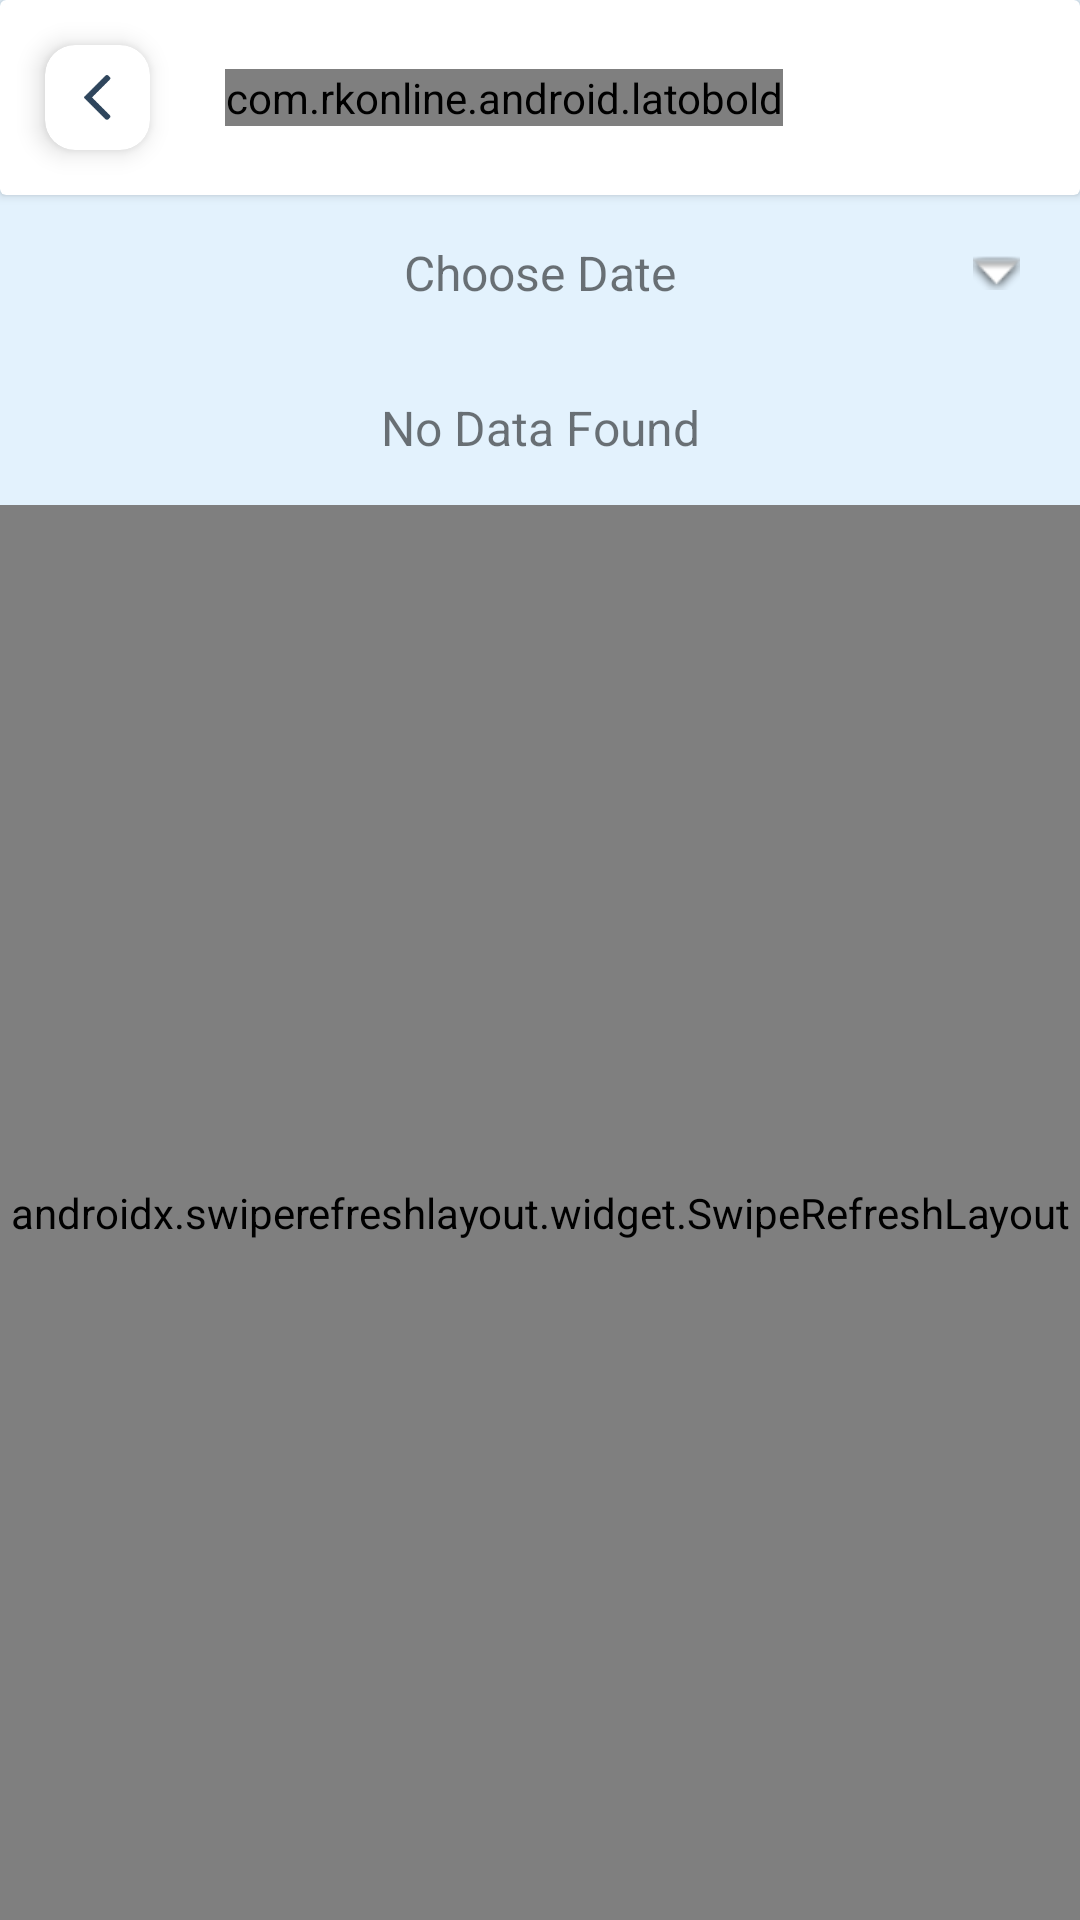

Screen size 1080 x 1920. Icon name, then its box in pixels as (x1, y1, x2, y2):
back: (84, 75, 111, 120)
